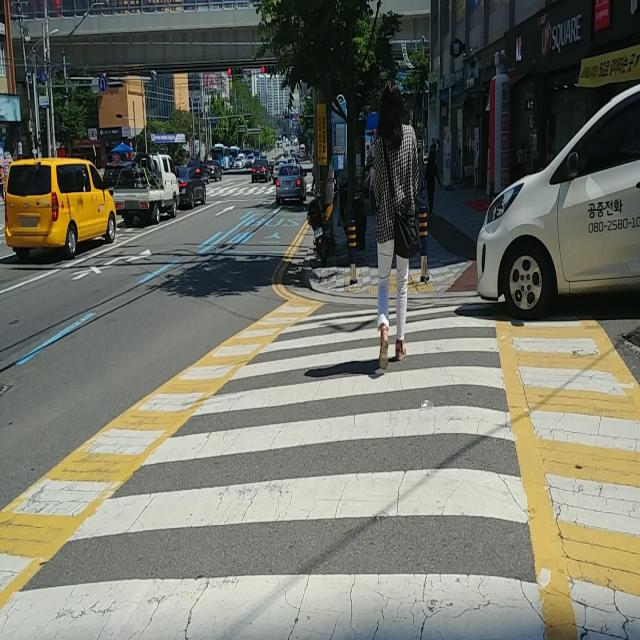횡단보도: (0, 294, 549, 640)
